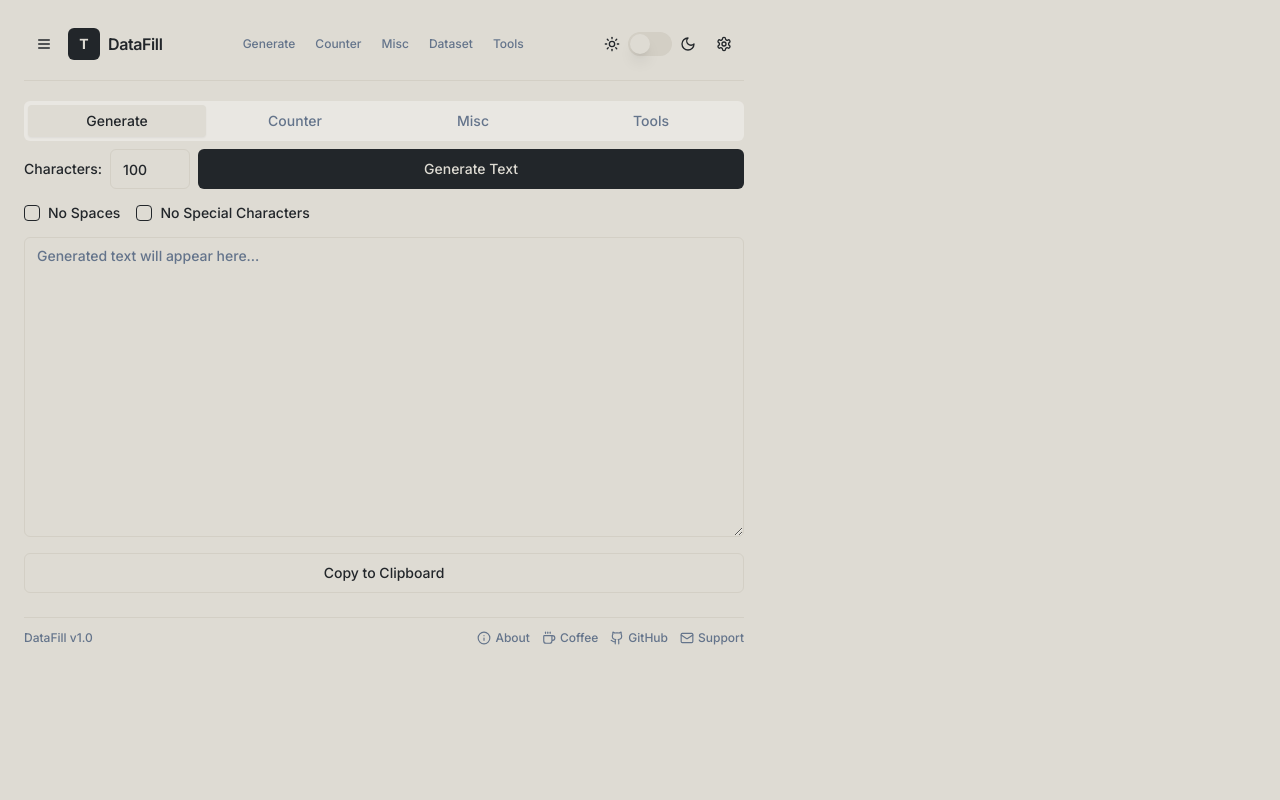
Test case: AppMenu hamburger navigation › deep-links to a text tool and closes the menu
This screenshot has width=1280, height=800.
What coordinates should you click on to do the following:
click the button named "Open menu"
I would click on:
 (44, 44)
Its box is [24, 24, 64, 64].
(page scrolled)
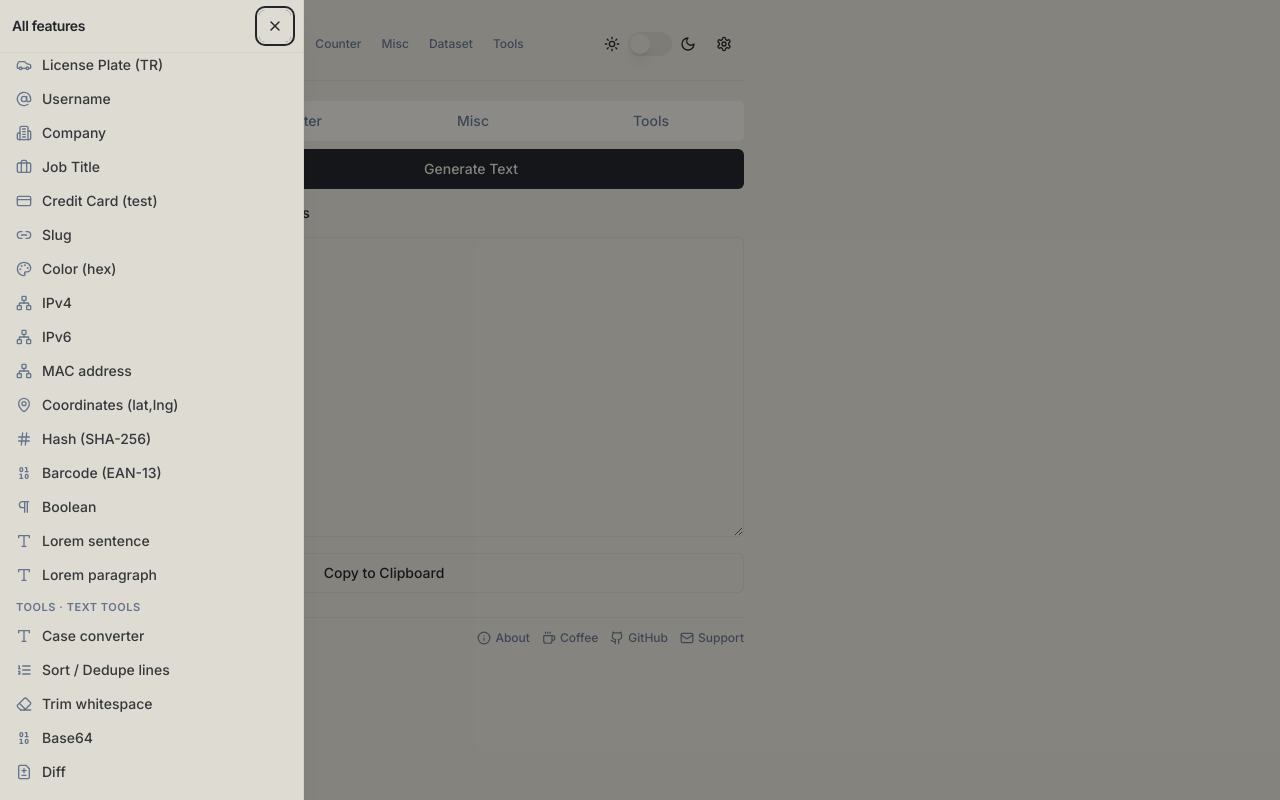
What coordinates should you click on to do the following:
click the button "Diff"
I would click on:
 (24, 772)
Its box is [8, 756, 295, 788].
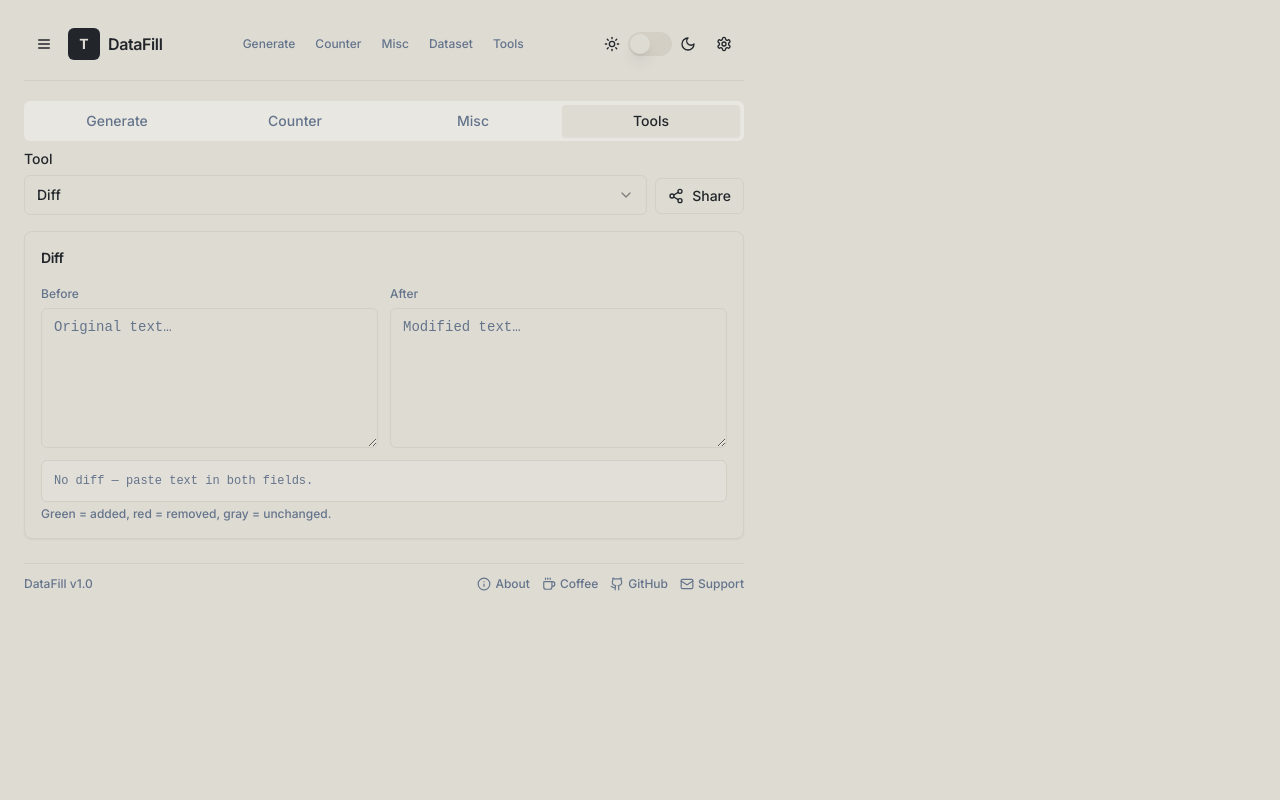
Now the text "All features" is gone
Now the text box labelled "Before" is shown, box [41, 308, 378, 448]
